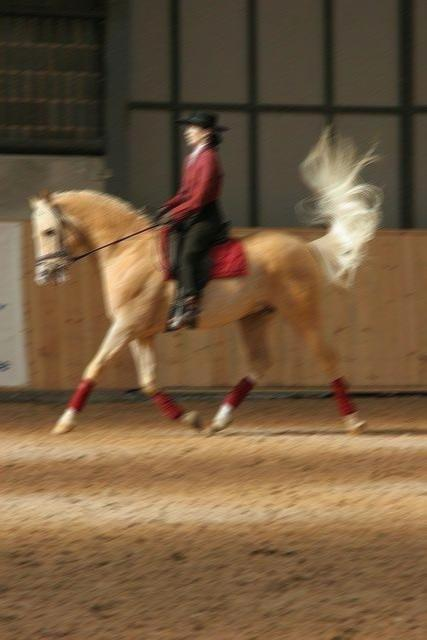horse: (28, 121, 383, 436)
